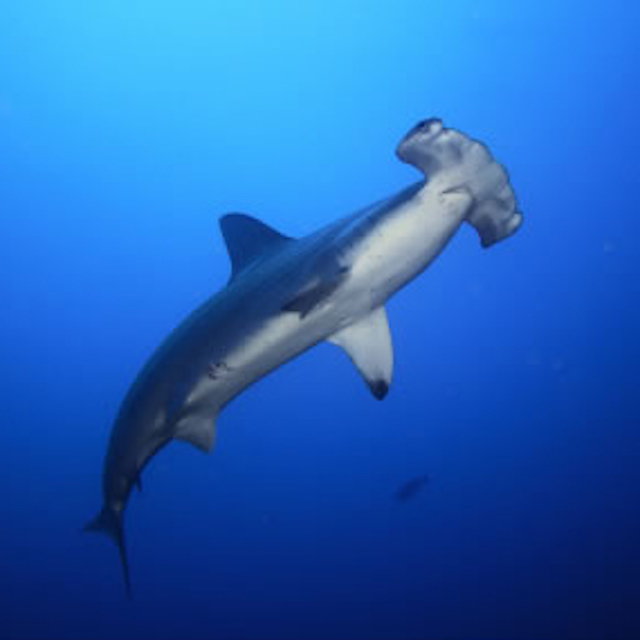hammerhead: (374, 105, 544, 277)
